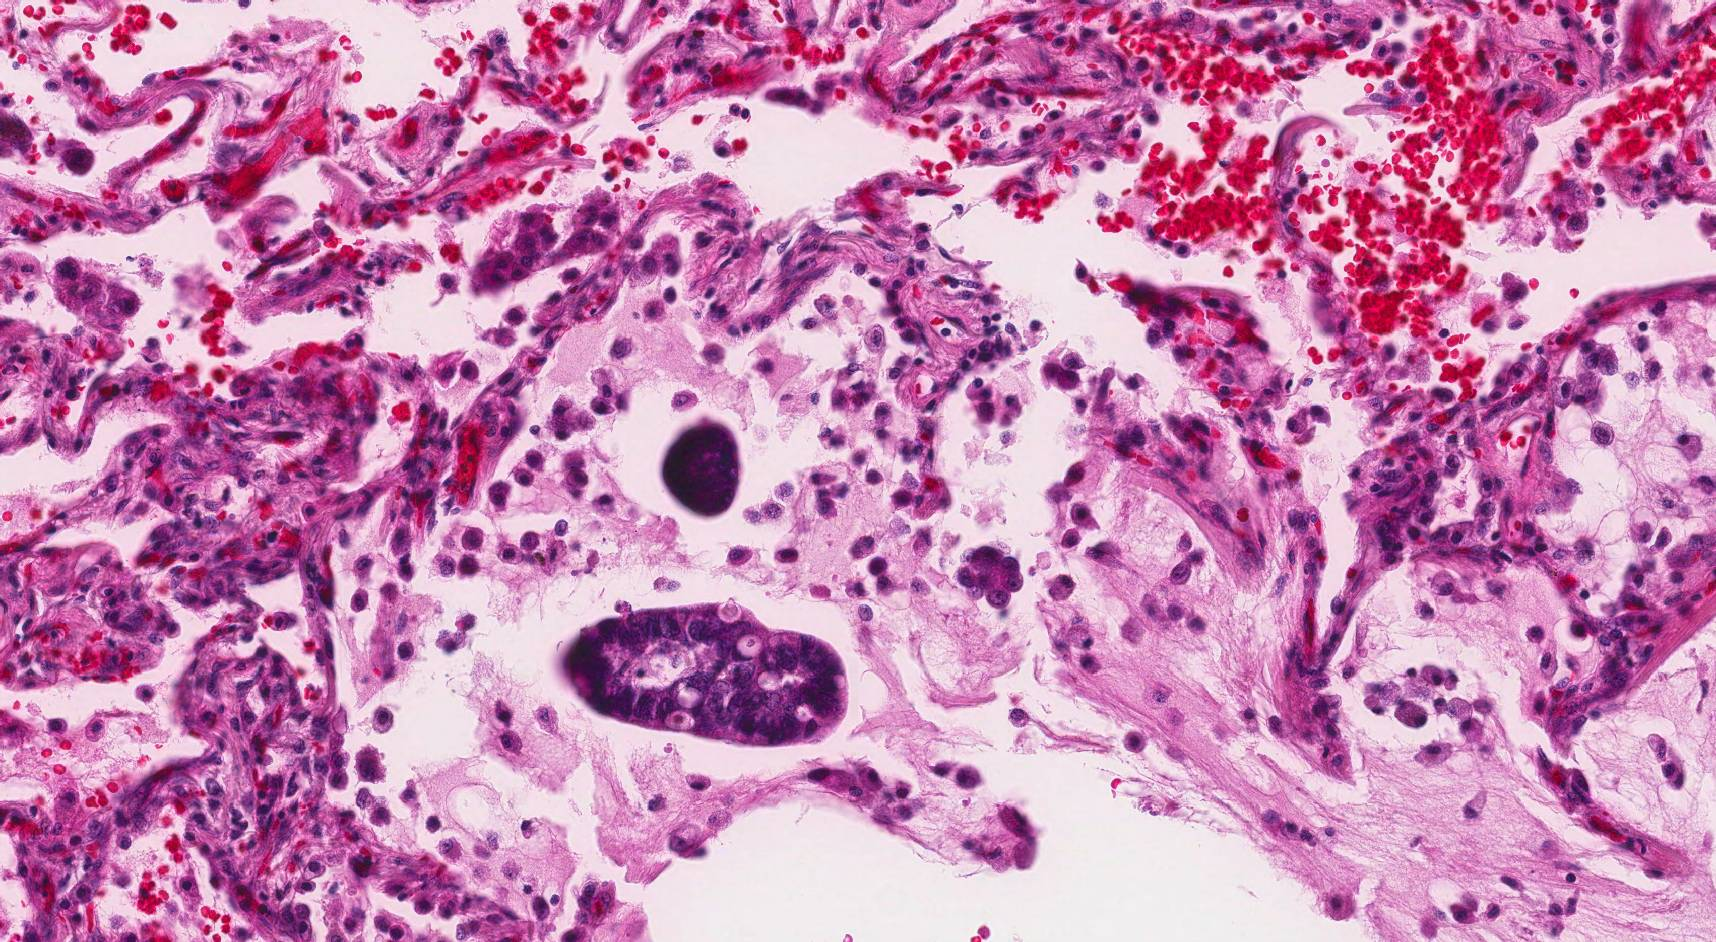stas: (561, 603, 852, 749), (658, 420, 743, 521), (956, 545, 1022, 610)
